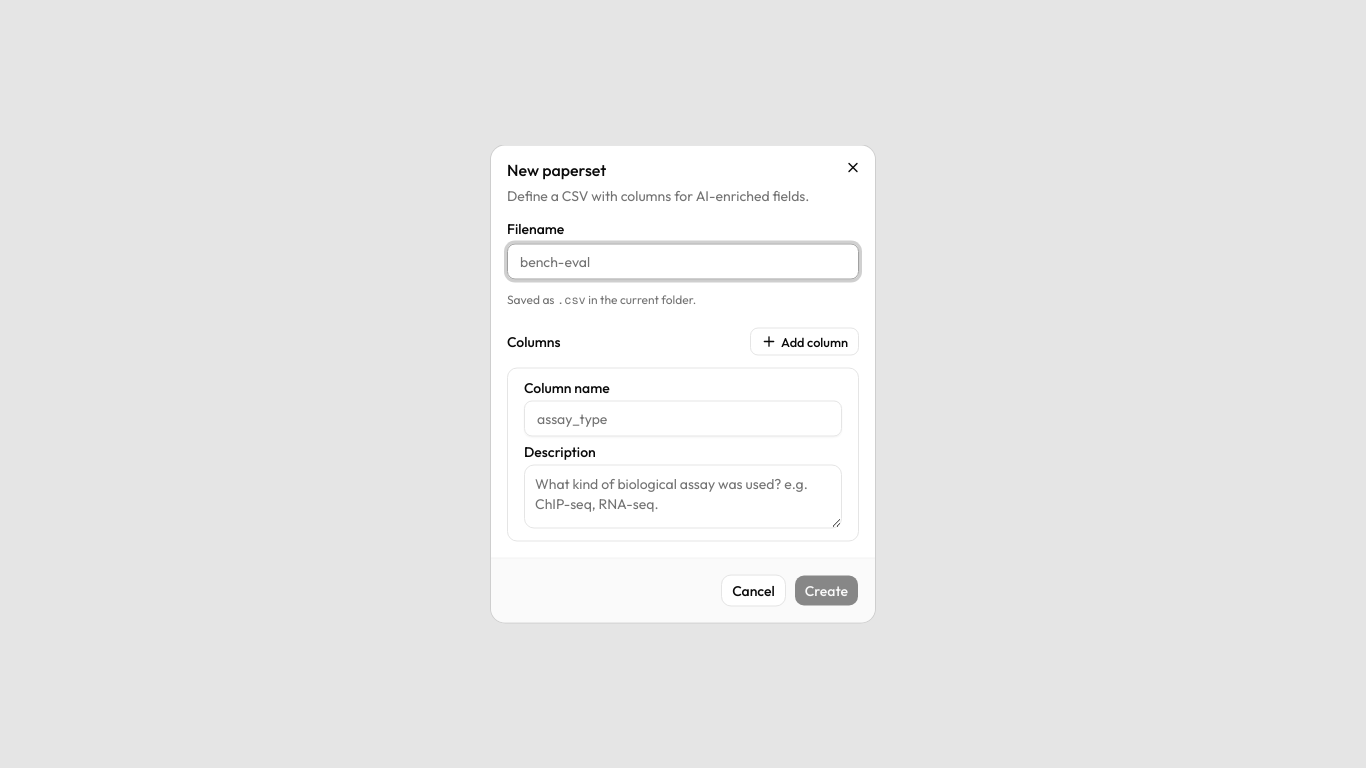
PapersetCreateDialog › displays server error message on 400
Type "bench" into the field labelled "Filename". click: point(683, 262)
box: [507,244,859,280]
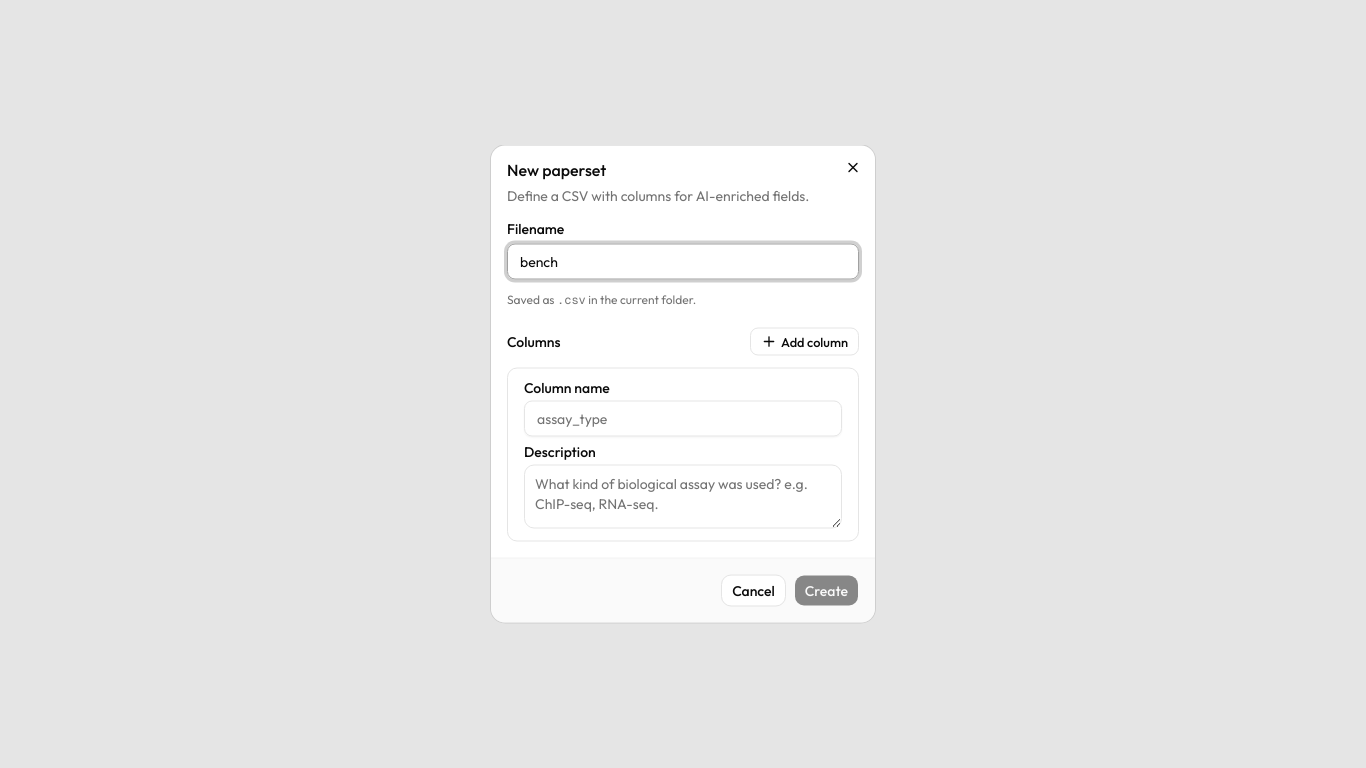
Type "c" into the field labelled "Column name". click: point(683, 418)
box: [524,400,842,436]
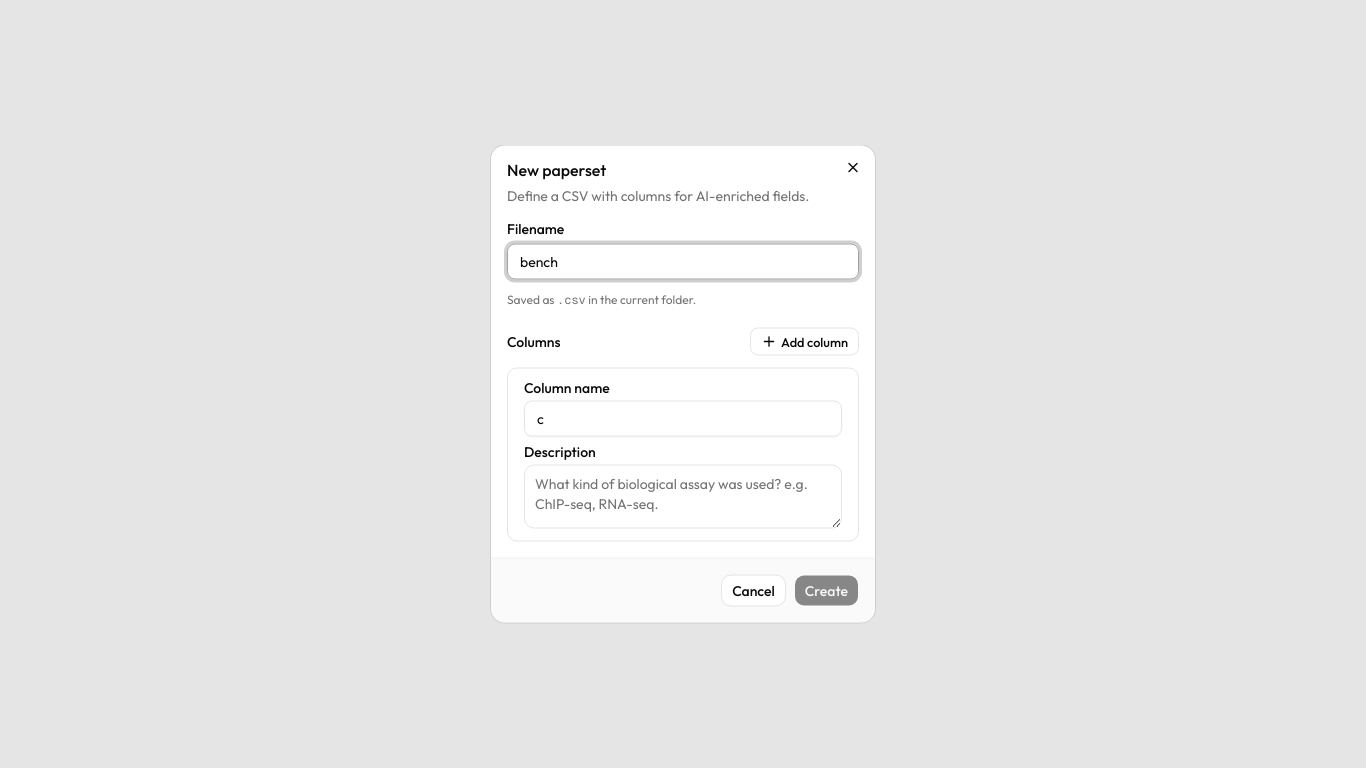
Replace the text in the text box labelled "Description" with "d". click: point(683, 496)
box: [524,464,842,528]
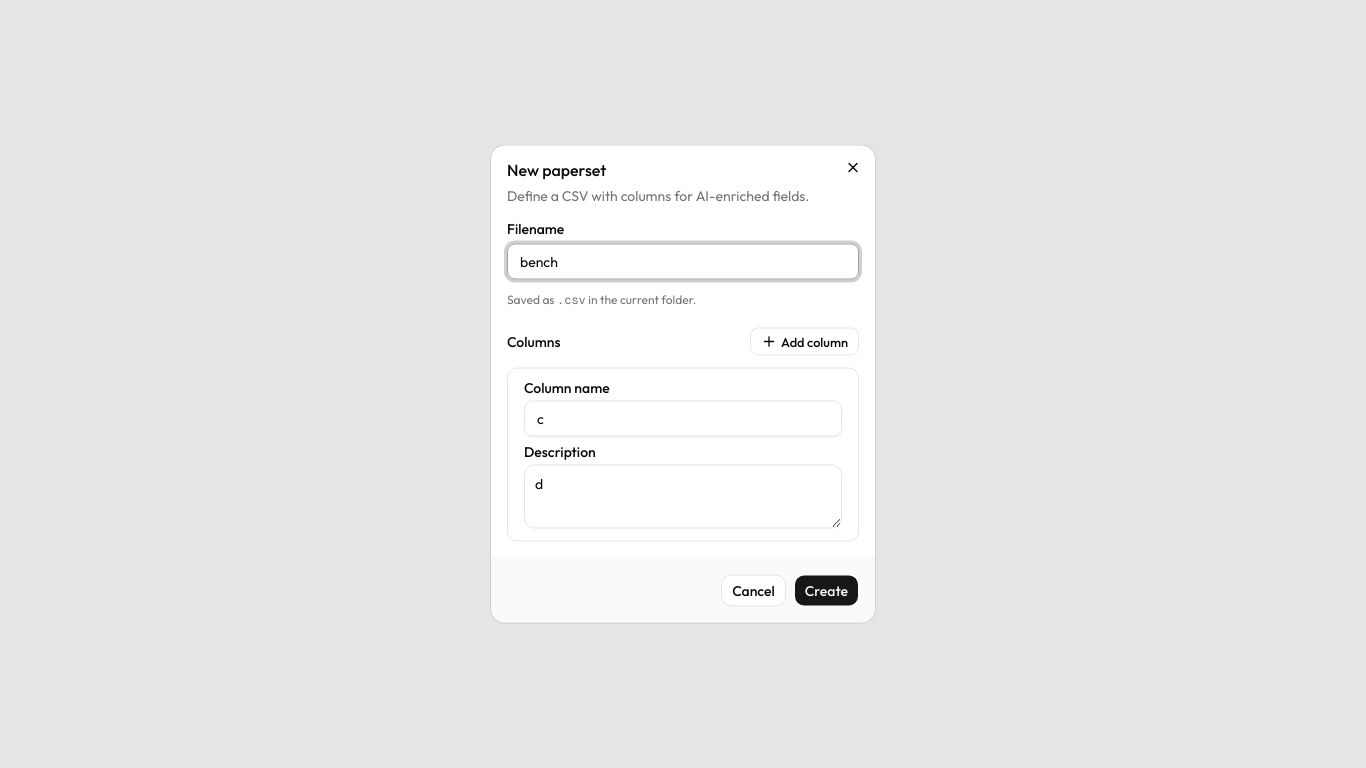
Click the button "Create". click: point(826, 590)
box: [794,574,859,606]
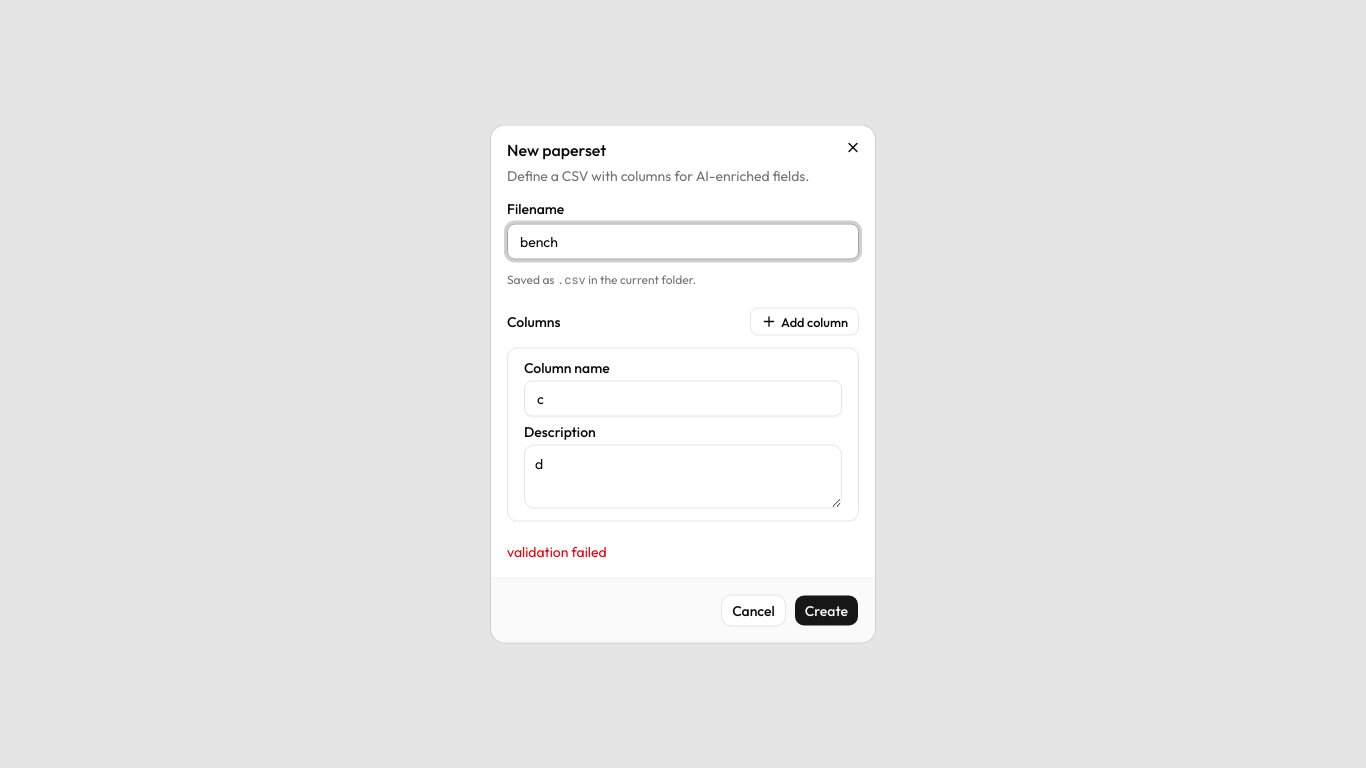
Now the message reads "validation failed", box [507,542,607,560]
